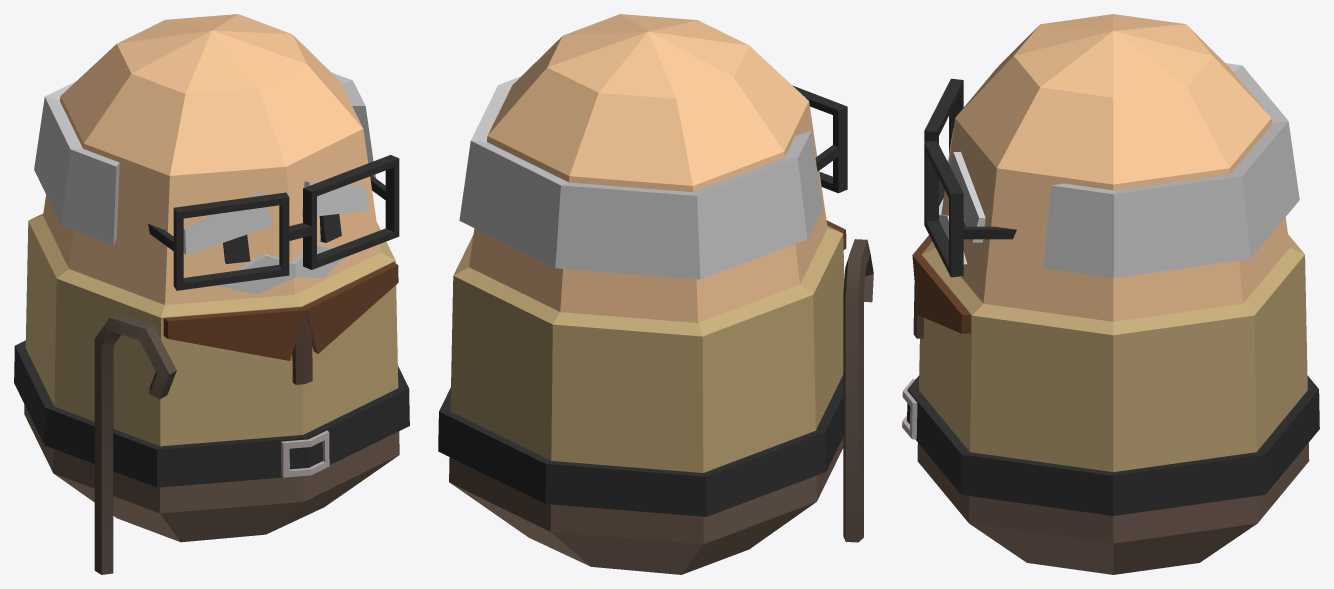
Rendered from OldMan.fbx.
3 renders of one model, left to right at view 1: azimuth 30°, elevation 25°; view 2: azimuth 150°, elevation 25°; view 3: azimuth 270°, elevation 25°, orthographic. The views are drawn at different scales.
Visible parts, largest first — view 1: OldMan; view 2: OldMan; view 3: OldMan.
Part boxes in pixels (x1,y1,x2,y2): OldMan: [14, 14, 409, 574]; OldMan: [438, 14, 873, 574]; OldMan: [902, 14, 1319, 574].
Bounding box in the file's own units: 53.42 × 54.19 × 74.34.
